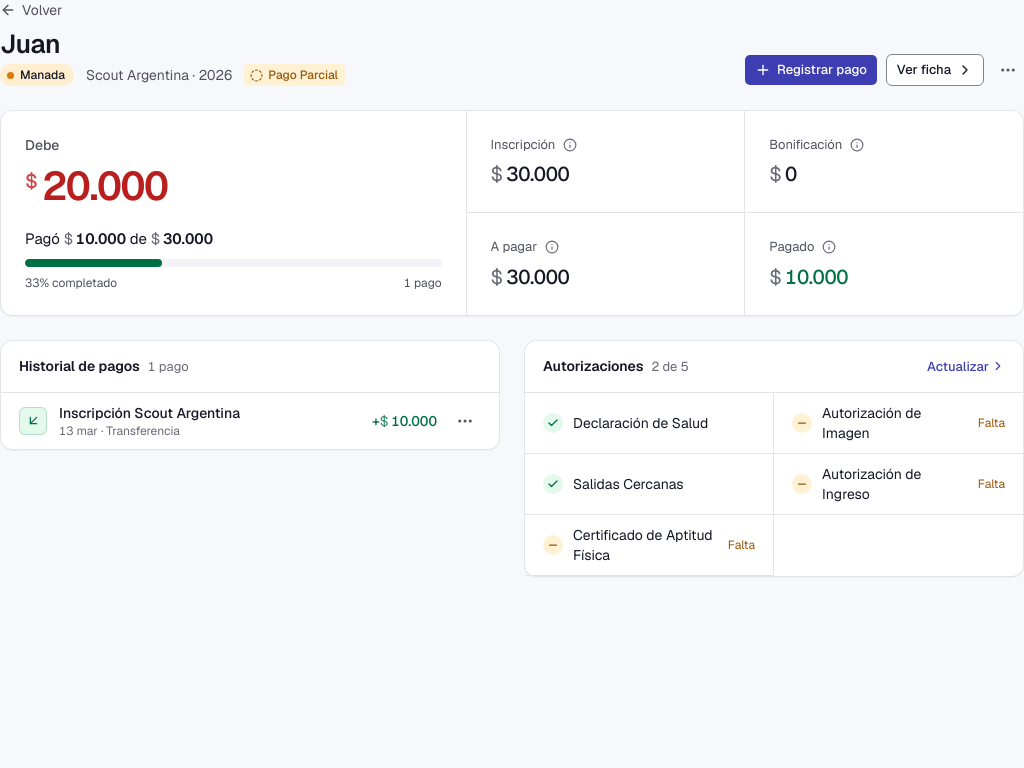
Test case: <InscripcionDetailView> › cada pago editable tiene su ⋯ con "Editar pago"
Click the button named "Acciones para pago de".
click(465, 421)  # box [449, 405, 481, 437]
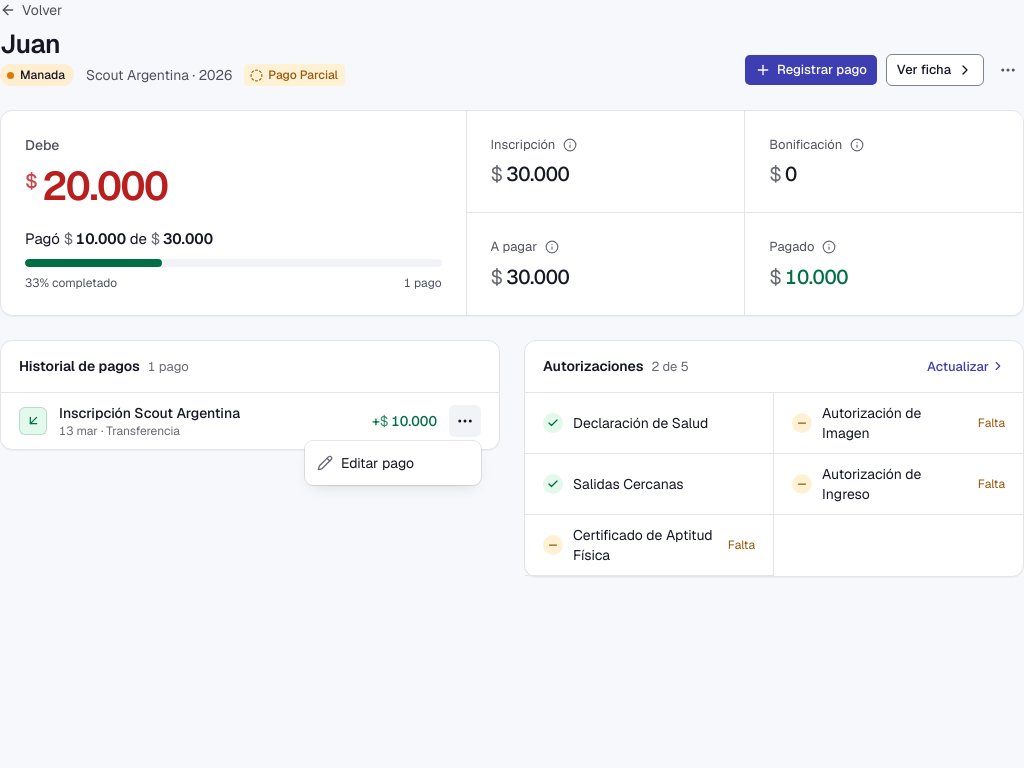
Click the menu item "Editar pago".
click(366, 463)  # box [317, 454, 414, 472]
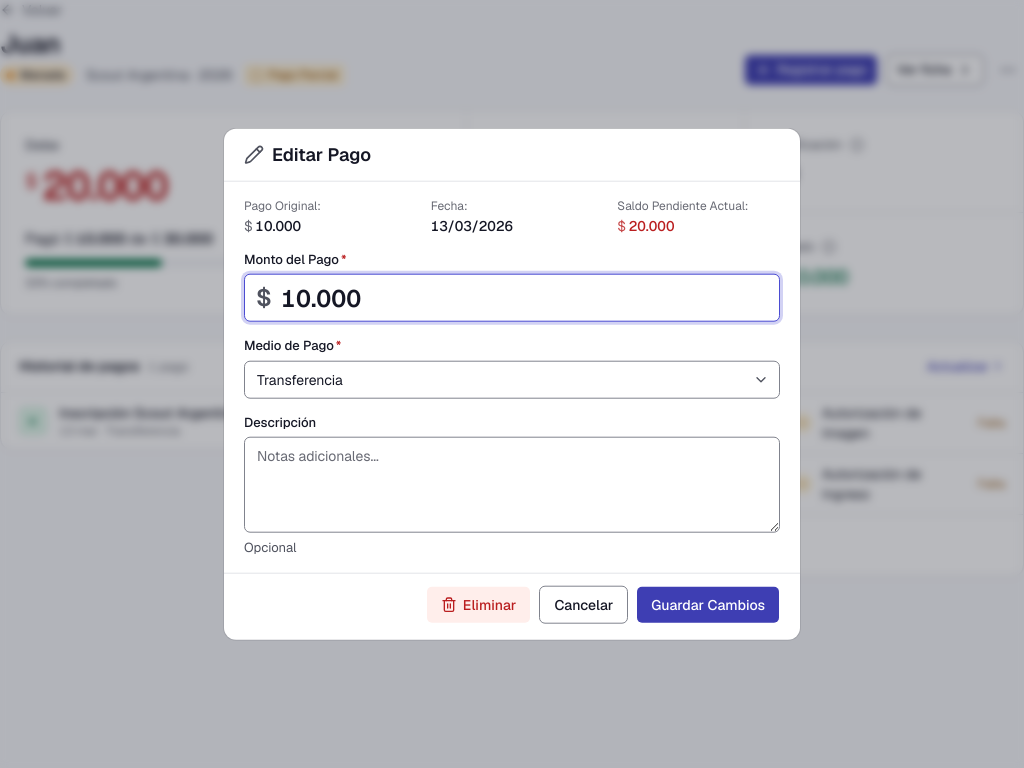
Now the dialog "Editar Pago" is shown, box [224, 129, 800, 639]
